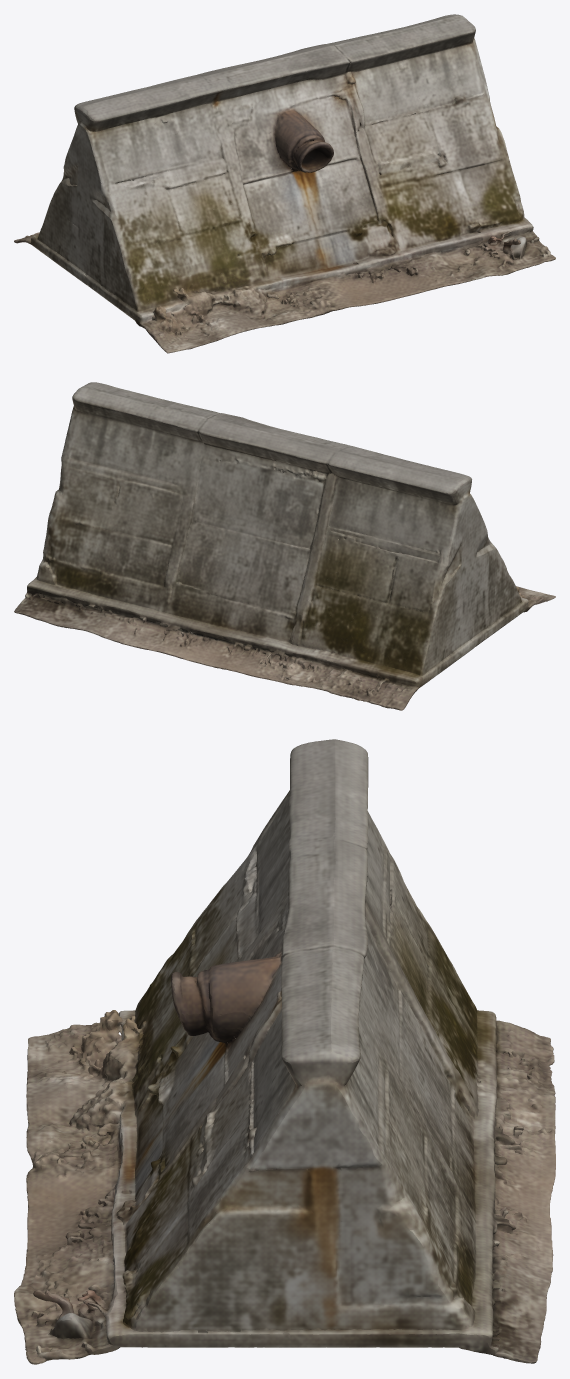
Rendered from canal_wall.glb.
3 views of the same model, one above another, from view 1: azimuth 30°, elevation 25°; view 2: azimuth 150°, elevation 25°; view 3: azimuth 270°, elevation 25° (orthographic). The views are drawn at different scales.
Visible parts, largest first — view 1: world; view 2: world; view 3: world.
Boxes of the visible parts, box(x1,y1,x2,y2) form: world: box(14, 14, 555, 353); world: box(14, 382, 555, 710); world: box(14, 739, 555, 1364).
Bounding box in the file's own units: 3 × 1.35 × 2.12.
Materials: 1 (1 with a texture image).
